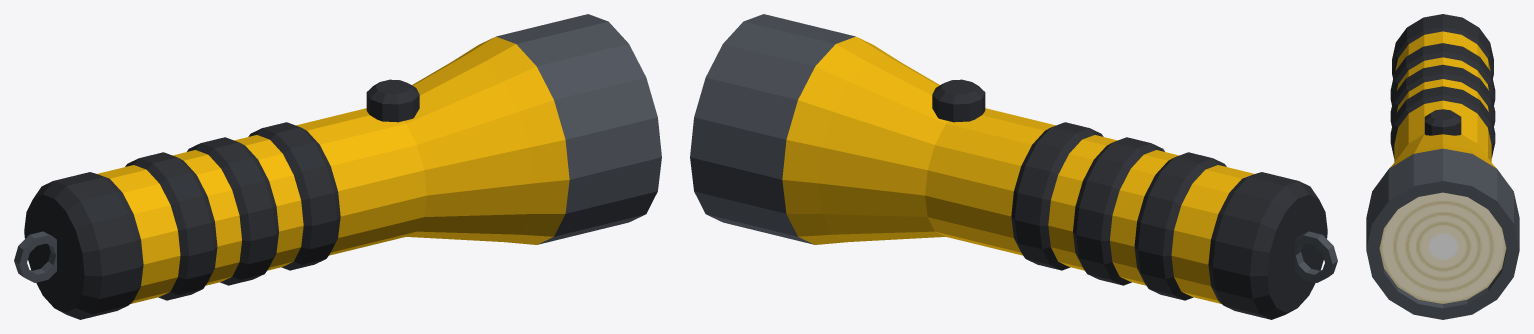
The model's file is Item_Lanterna.fbx.
3 views of the same model, side by side, from view 1: azimuth 30°, elevation 25°; view 2: azimuth 150°, elevation 25°; view 3: azimuth 270°, elevation 25° (orthographic). The views are drawn at different scales.
Visible parts, largest first — view 1: Item_Lanterna; view 2: Item_Lanterna; view 3: Item_Lanterna.
Part boxes in pixels (x1,y1,x2,y2): Item_Lanterna: (14,14,661,319); Item_Lanterna: (690,14,1337,319); Item_Lanterna: (1366,14,1519,319).
Bounding box in the file's own units: 0.1923 × 0.06 × 0.06.
1 material, 1 textured.
